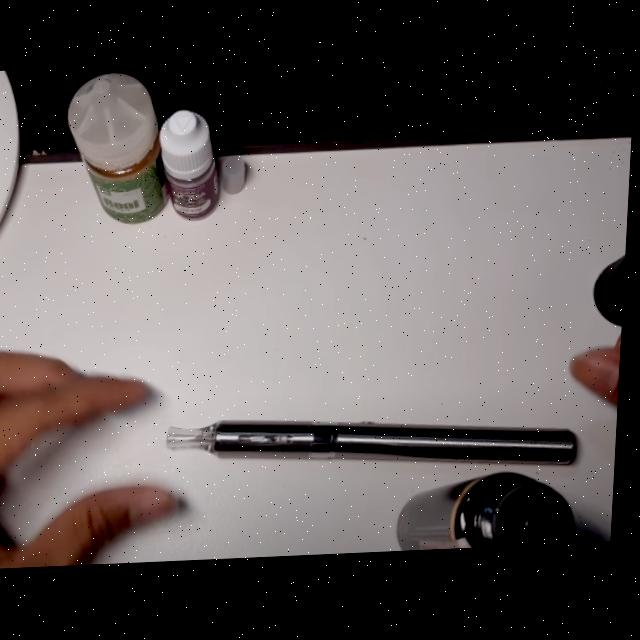vape: (168, 408, 585, 486)
